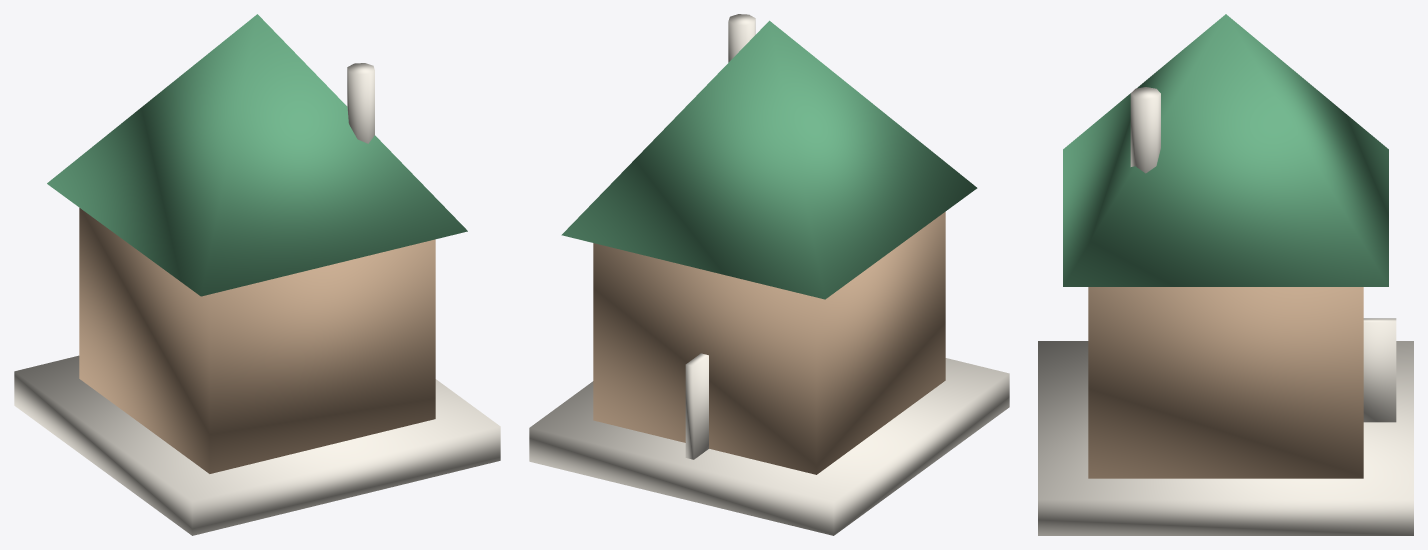
Rendered from mountain_resort.glb.
3 views of the same model, side by side, from view 1: azimuth 30°, elevation 25°; view 2: azimuth 150°, elevation 25°; view 3: azimuth 270°, elevation 25° (orthographic). The views are drawn at different scales.
Visible parts, largest first — view 1: cabin, roof, deck, chimney; view 2: cabin, roof, deck, door, chimney; view 3: roof, cabin, deck, door, chimney.
Boxes of the visible parts, <box> form: cabin: <box>79,208,435,473</box>; roof: <box>47,14,467,296</box>; deck: <box>14,355,500,535</box>; chimney: <box>347,63,374,143</box>; cabin: <box>593,212,945,474</box>; roof: <box>561,20,977,299</box>; deck: <box>529,358,1009,535</box>; door: <box>685,353,708,459</box>; chimney: <box>728,14,755,62</box>; roof: <box>1063,14,1388,286</box>; cabin: <box>1088,287,1363,478</box>; deck: <box>1038,341,1413,535</box>; door: <box>1363,318,1396,422</box>; chimney: <box>1130,87,1160,173</box>.
Bounding box in the file's own units: 0.75 × 0.975 × 0.75.
